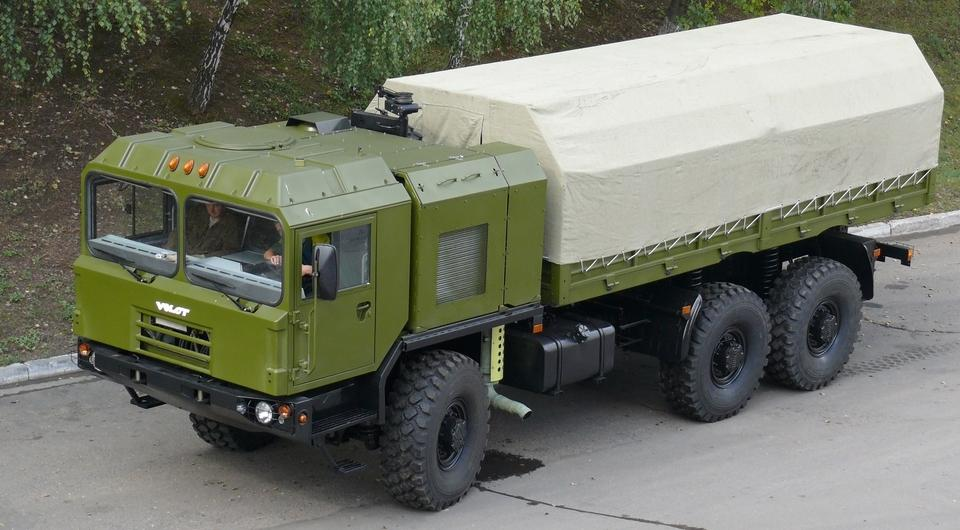truck: (60, 0, 944, 514)
